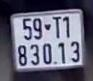0: (42, 42, 52, 64)
1: (61, 14, 72, 39), (57, 41, 68, 65)
3: (70, 40, 81, 63), (30, 42, 40, 65)
5: (21, 17, 32, 42)
8: (16, 43, 28, 67)
9: (32, 16, 44, 40)
T: (51, 14, 61, 41)
